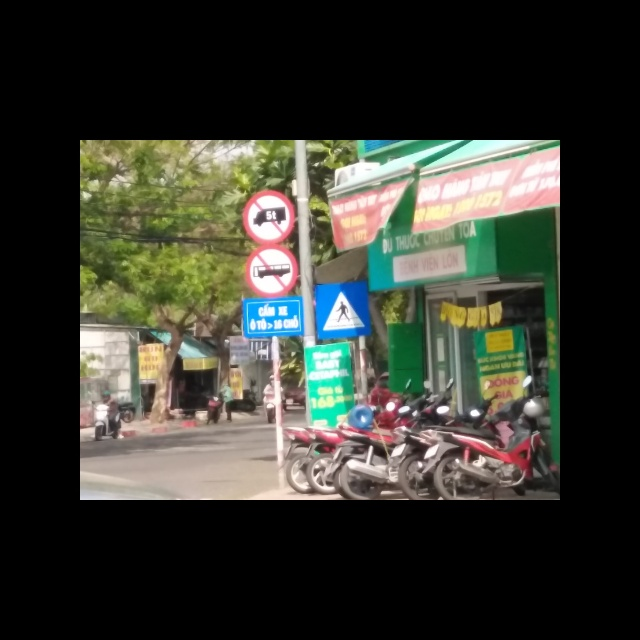Cấm xe tải: (242, 188, 296, 245)
Cấm xe xe khách: (243, 245, 297, 297)
Đường dành cho người đi bộ: (315, 283, 372, 337)
